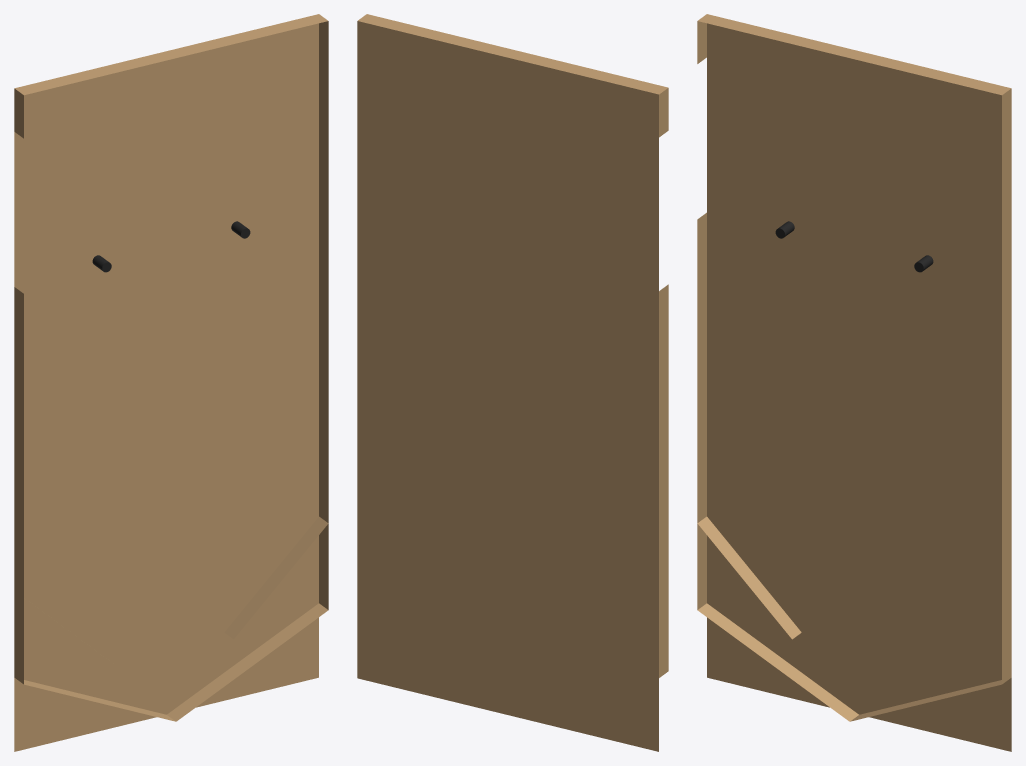
The model's file is playfield.glb.
The picture shows the model from 3 angles, left to right: view 1: azimuth 30°, elevation 25°; view 2: azimuth 150°, elevation 25°; view 3: azimuth 330°, elevation 25°; orthographic projection.
Visible parts, largest first — view 1: floor, walls[1], walls[2], walls[0]; view 2: floor, walls[1], walls[0], walls[2]; view 3: floor, walls[1], walls[0], walls[2].
Boxes of the visible parts, left/top/right/bottom form: floor: left=14, top=23, right=318, bottom=751; walls[1]: left=14, top=14, right=328, bottom=639; walls[2]: left=14, top=524, right=328, bottom=721; walls[0]: left=14, top=287, right=23, bottom=597; floor: left=357, top=21, right=658, bottom=751; walls[1]: left=358, top=14, right=668, bottom=137; walls[0]: left=659, top=284, right=668, bottom=591; walls[2]: left=659, top=585, right=668, bottom=677; floor: left=707, top=23, right=1011, bottom=751; walls[1]: left=697, top=14, right=1011, bottom=597; walls[0]: left=697, top=212, right=801, bottom=639; walls[2]: left=697, top=524, right=1011, bottom=721.
Size of the model in its own units: 0.514 by 1.07 by 0.028.
